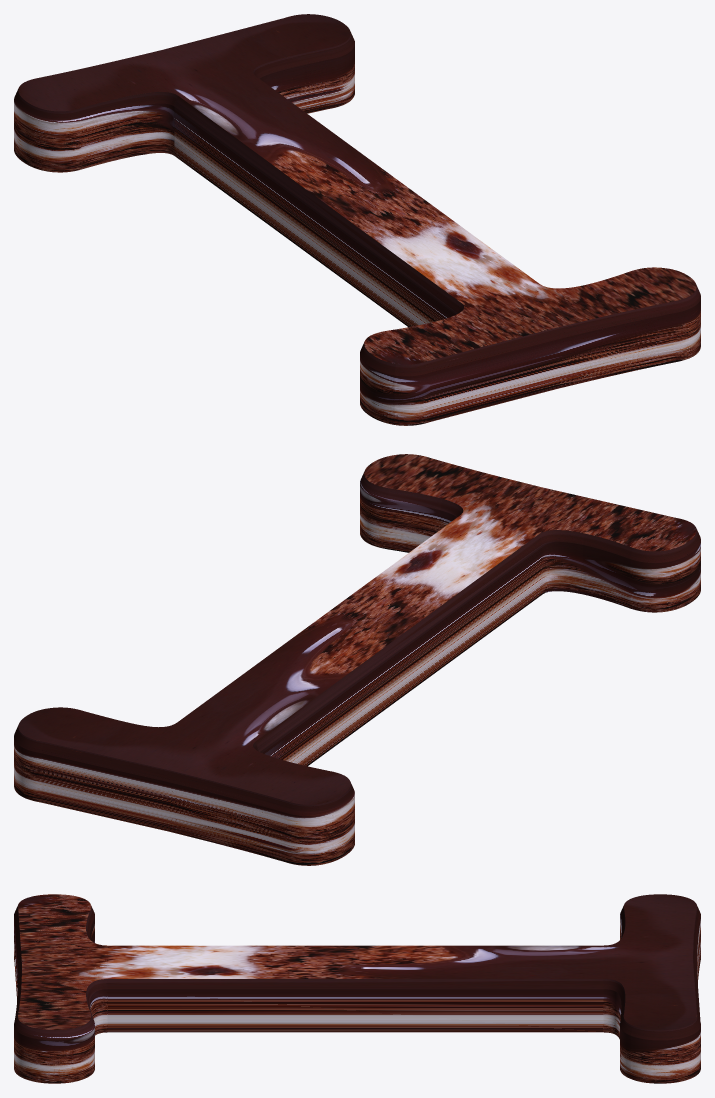
Rendered from myIn.FBX.
3 views of the same model, one above another, from view 1: azimuth 30°, elevation 25°; view 2: azimuth 150°, elevation 25°; view 3: azimuth 270°, elevation 25° (orthographic). The views are drawn at different scales.
Parts seen in each view (by area): view 1: myB; view 2: myB; view 3: myB.
Boxes of the visible parts, <box> form: myB: <box>14,14,700,425</box>; myB: <box>14,454,700,865</box>; myB: <box>14,894,700,1083</box>.
Size of the model in its own units: 34.49 by 6 by 72.
